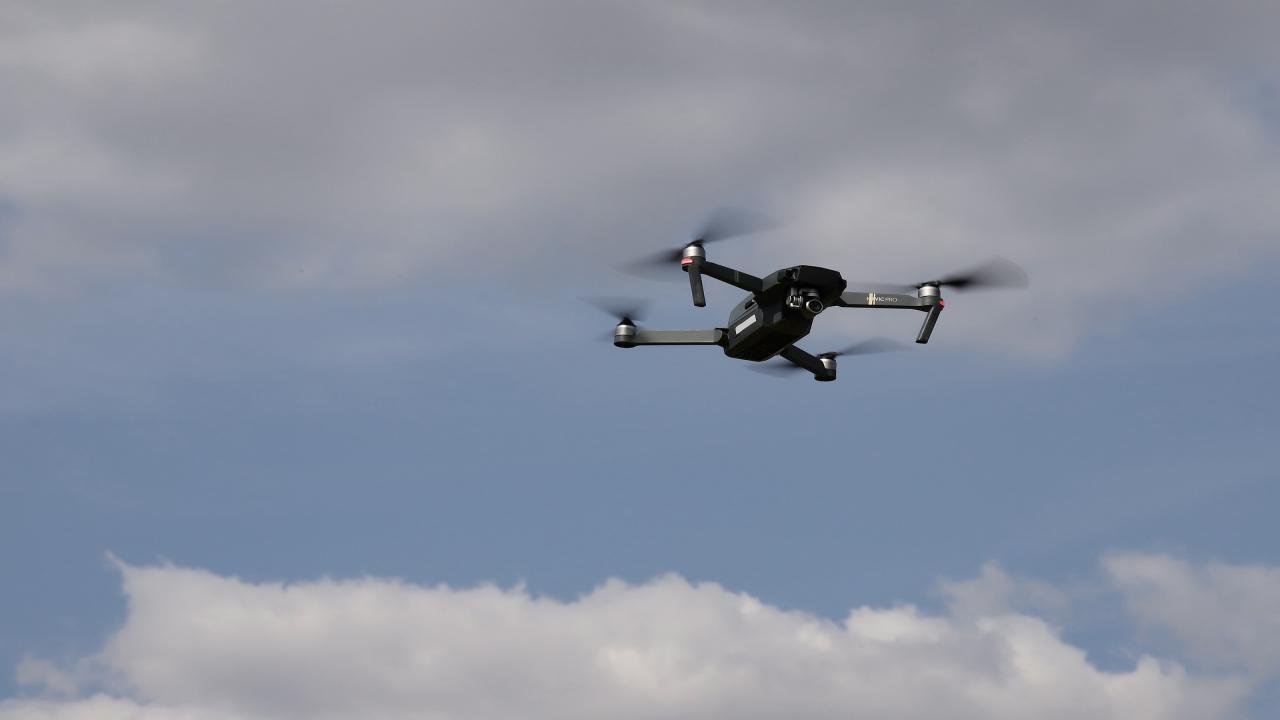Drone: (574, 178, 1040, 400)
